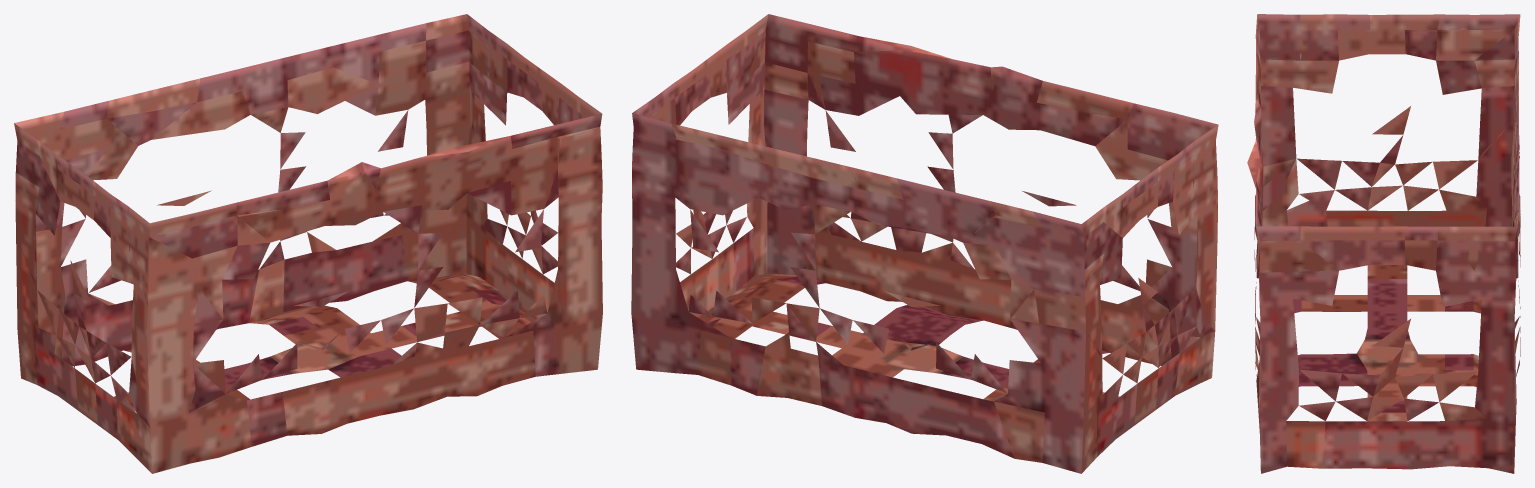
File: plastic_crate_03.glb
3 views of the same model, side by side, from view 1: azimuth 30°, elevation 25°; view 2: azimuth 150°, elevation 25°; view 3: azimuth 270°, elevation 25° (orthographic). The views are drawn at different scales.
Parts seen in each view (by area): view 1: mesh; view 2: mesh; view 3: mesh.
Boxes of the visible parts, x1,y1,x2,y2 form: mesh: (14,14,602,473); mesh: (631,14,1218,473); mesh: (1247,14,1520,473).
Size of the model in its own units: 0.4783 by 0.2659 by 0.2578.
1 material, 1 textured.
